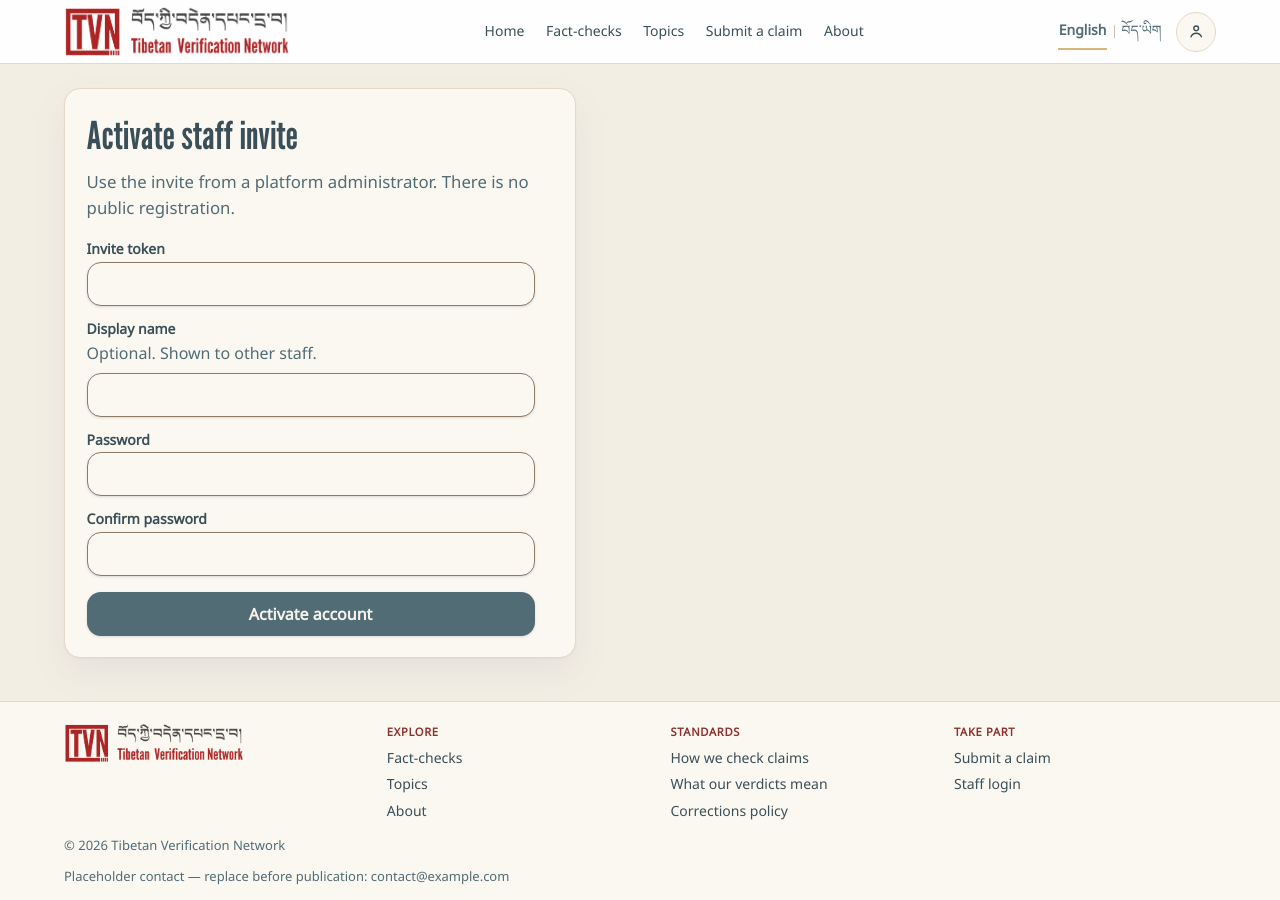
Test case: invite activation › explains a password mismatch and an invalid invite without repeating the token
Type "invite-secret-token-value" into the field labelled "Invite token" at (311, 284), box x1=87 y1=262 x2=535 y2=306
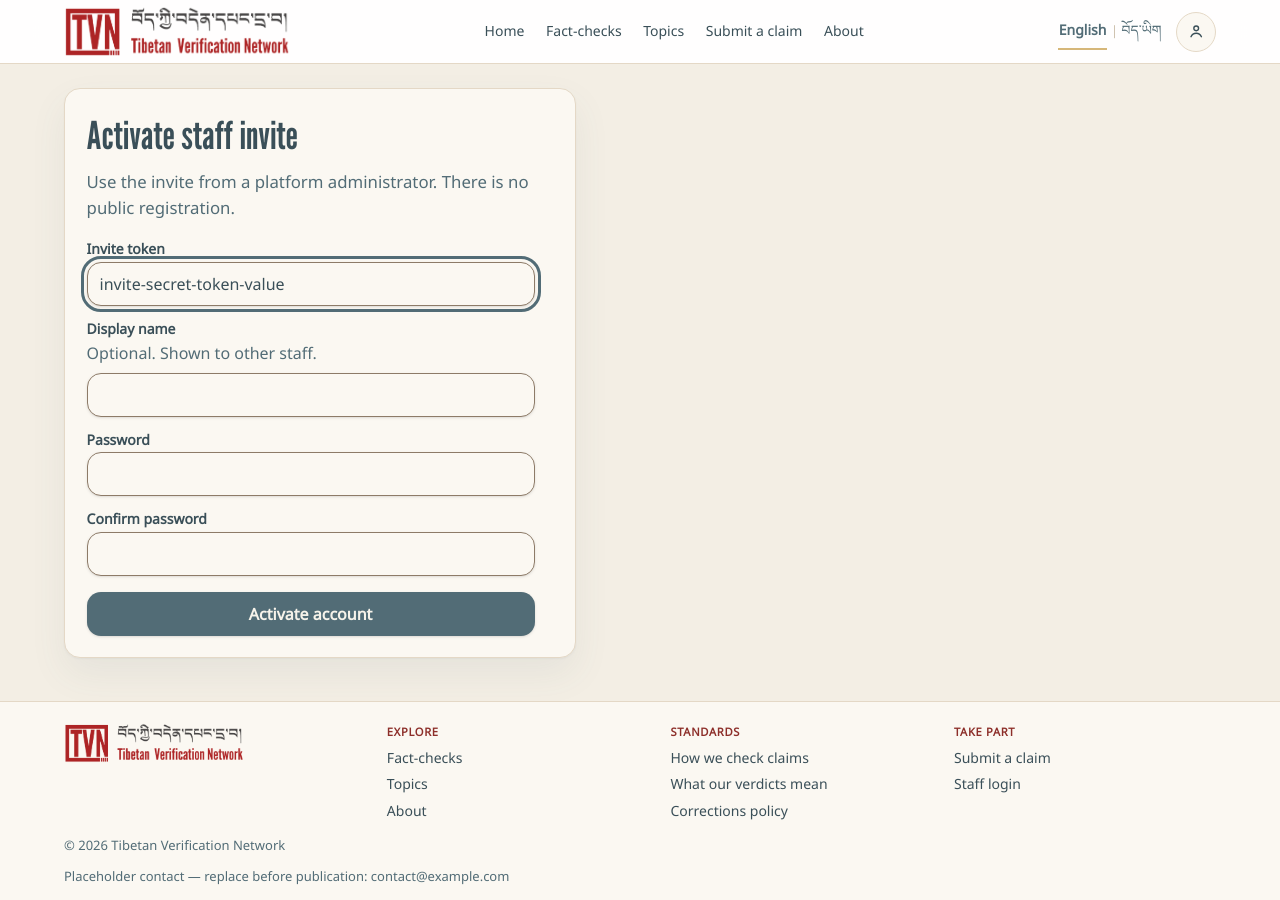
Type "correct-horse-battery" into the password field labelled "Password" at (311, 474), box x1=87 y1=452 x2=535 y2=496
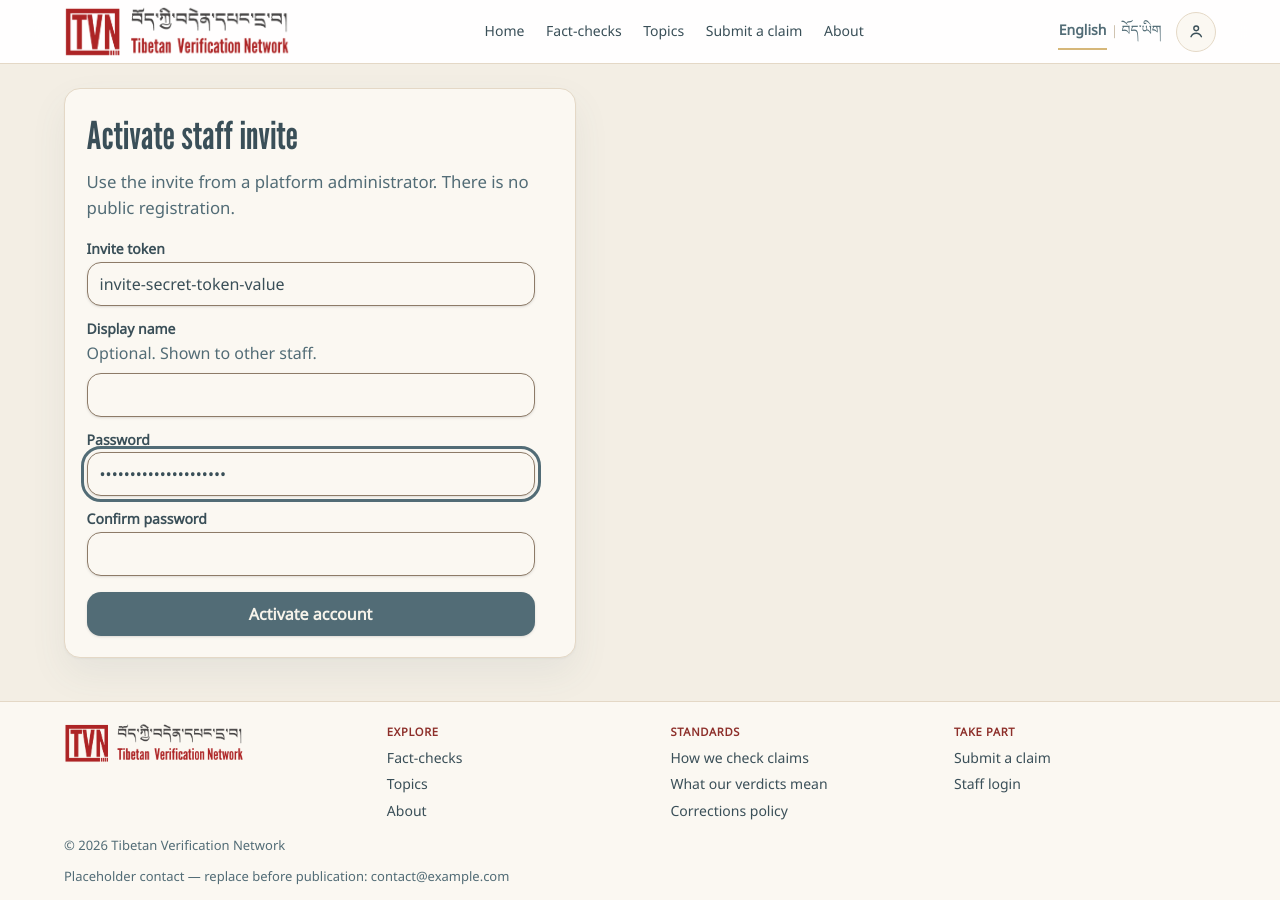
Type "different-horse-battery" into the password field labelled "Confirm password" at (311, 554), box x1=87 y1=532 x2=535 y2=576
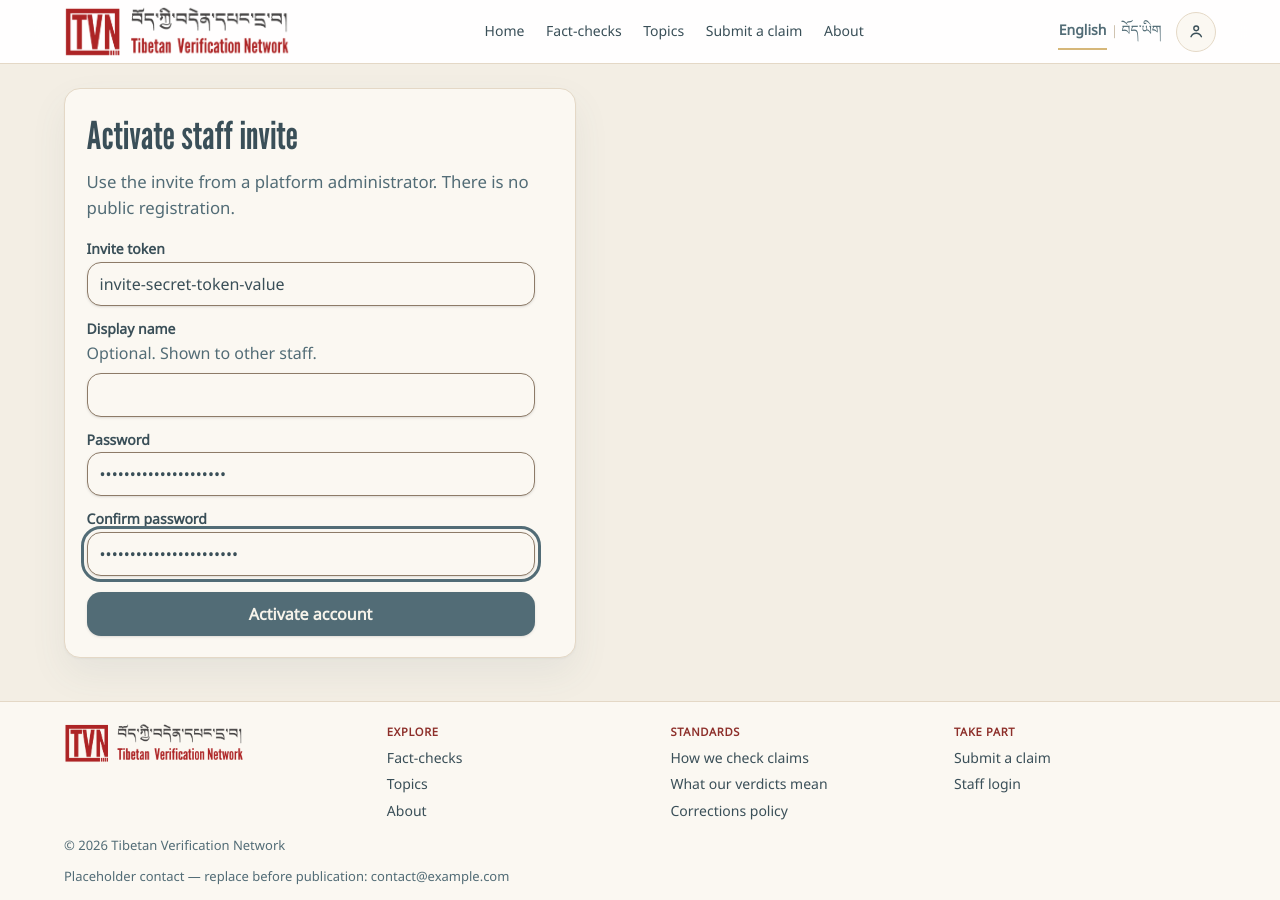
Click the button "Activate account" at (311, 614), box x1=87 y1=592 x2=535 y2=636
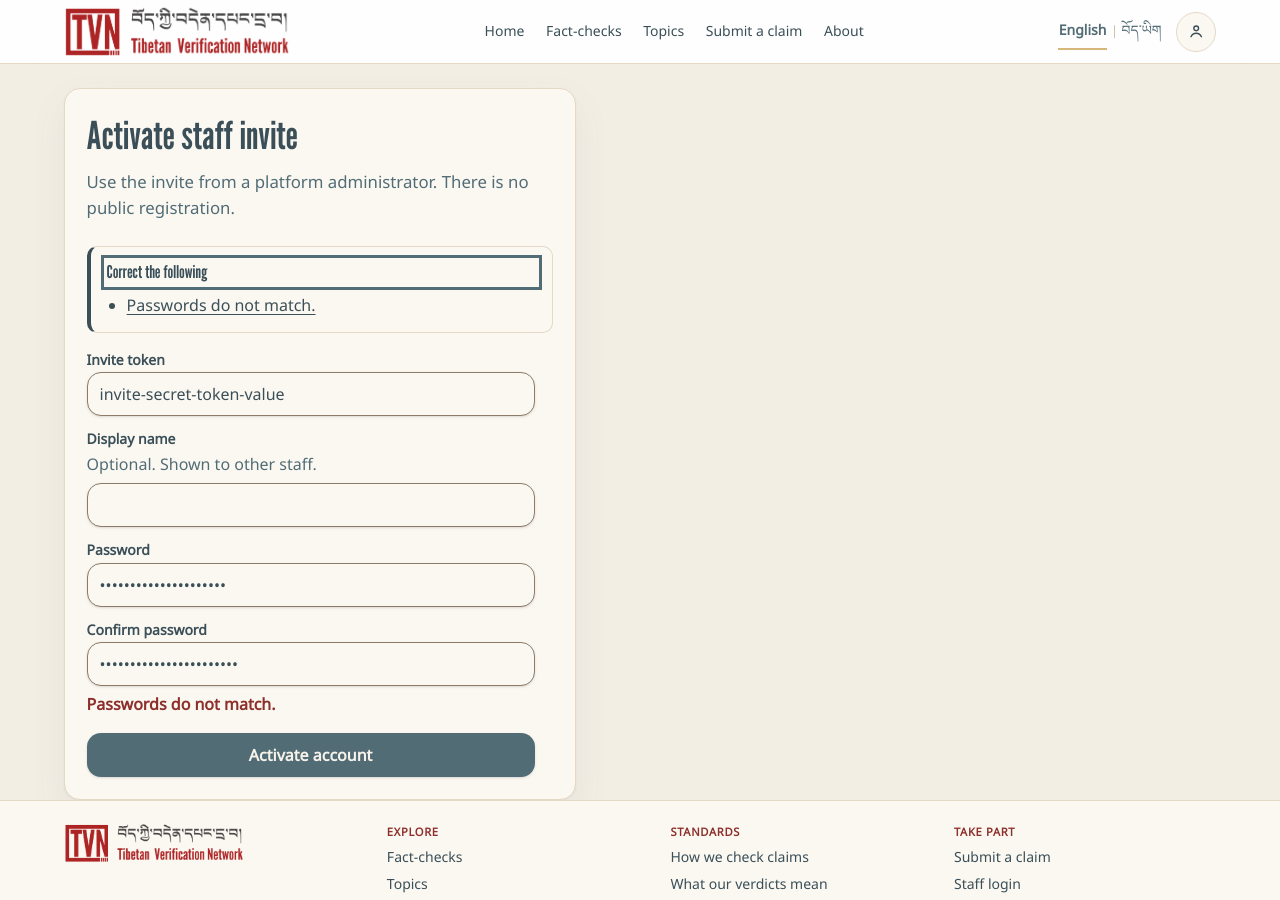
Result: the message shows "Passwords do not match." at x1=127 y1=294 x2=316 y2=316
Type "correct-horse-battery" into the password field labelled "Confirm password" at (311, 664), box x1=87 y1=642 x2=535 y2=686
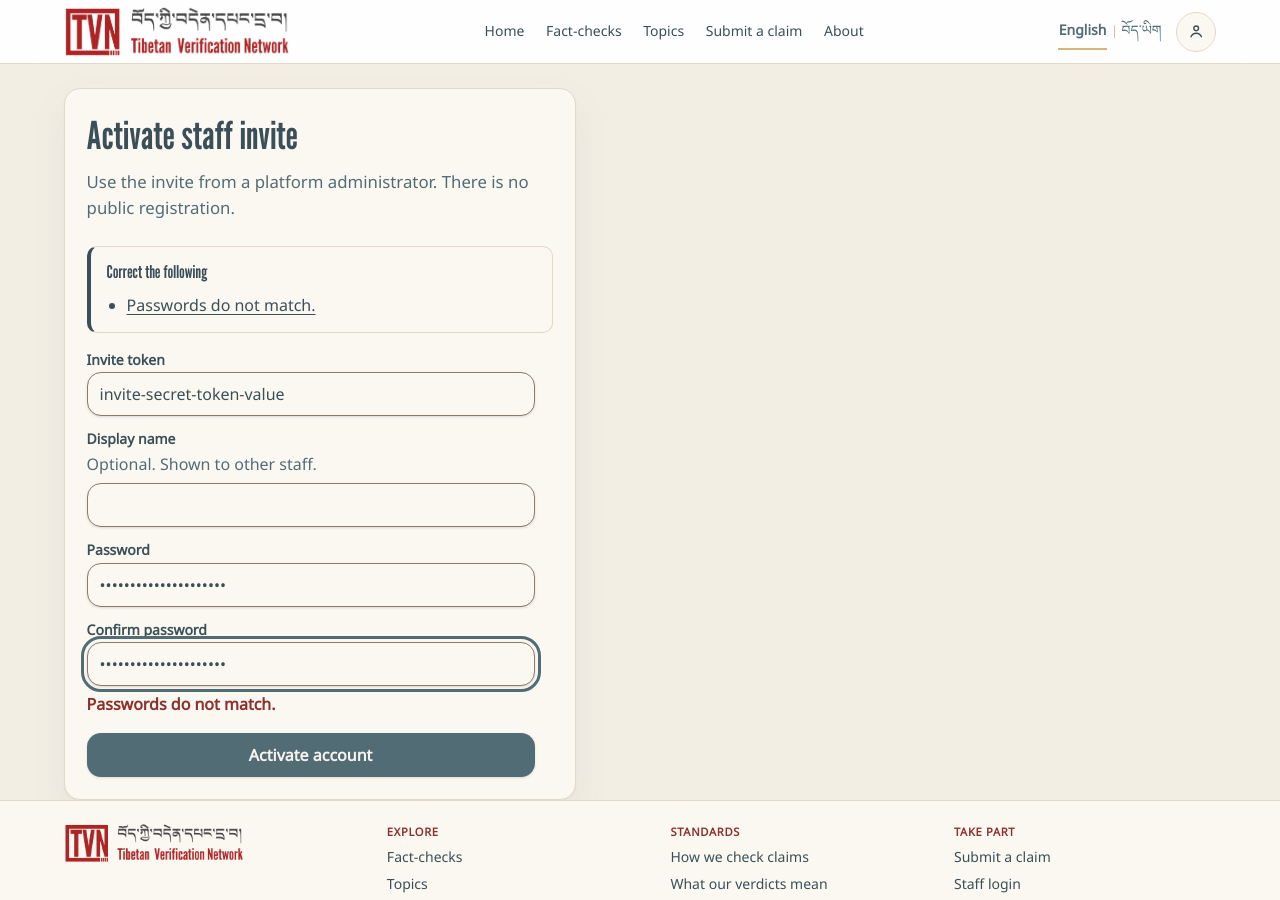
Click the button "Activate account" at (311, 756), box x1=87 y1=734 x2=535 y2=778
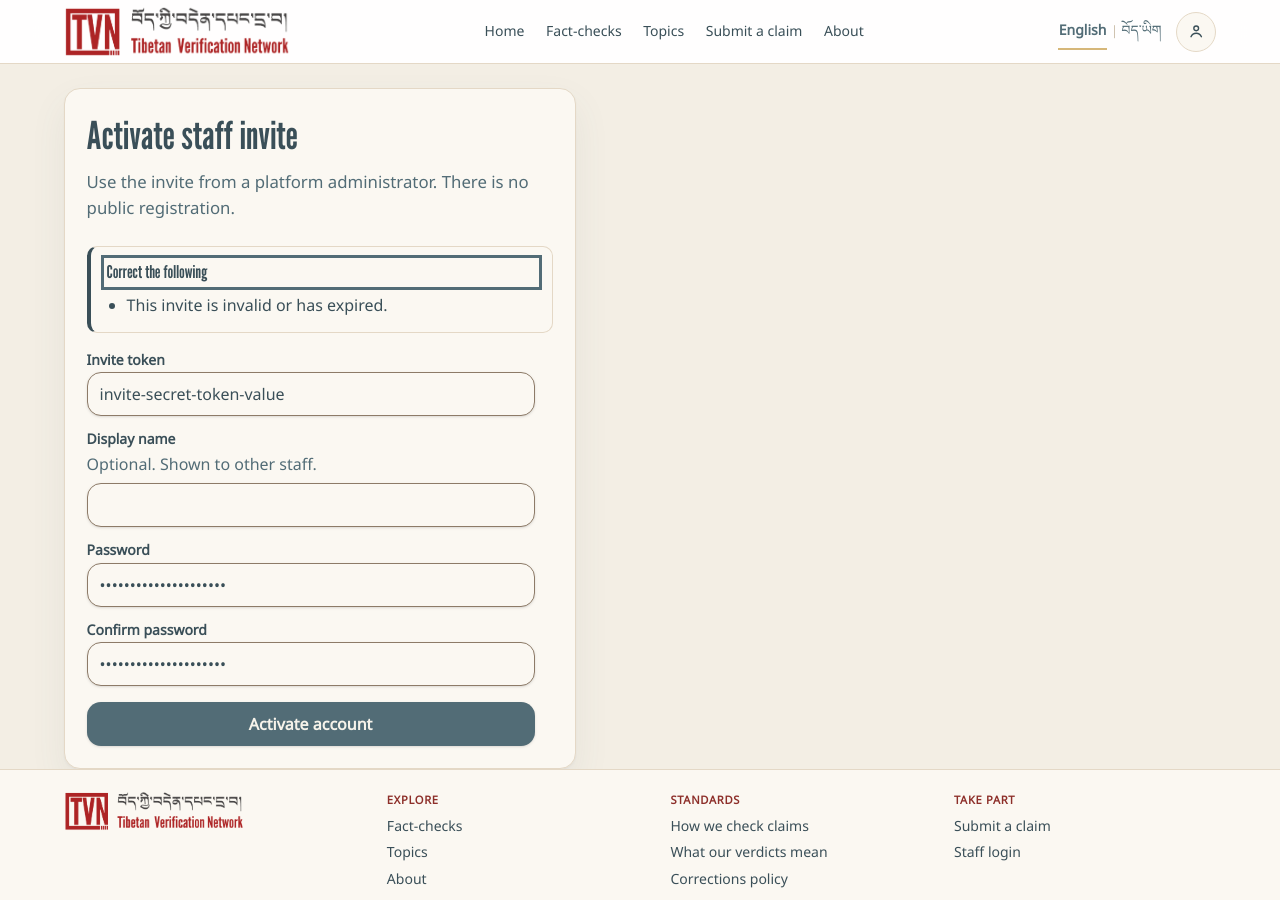
Expected: the message does not show "invite-secret-token-value", x1=87 y1=246 x2=553 y2=333
Result: the message shows "This invite is invalid or has expired." at x1=127 y1=294 x2=388 y2=316
